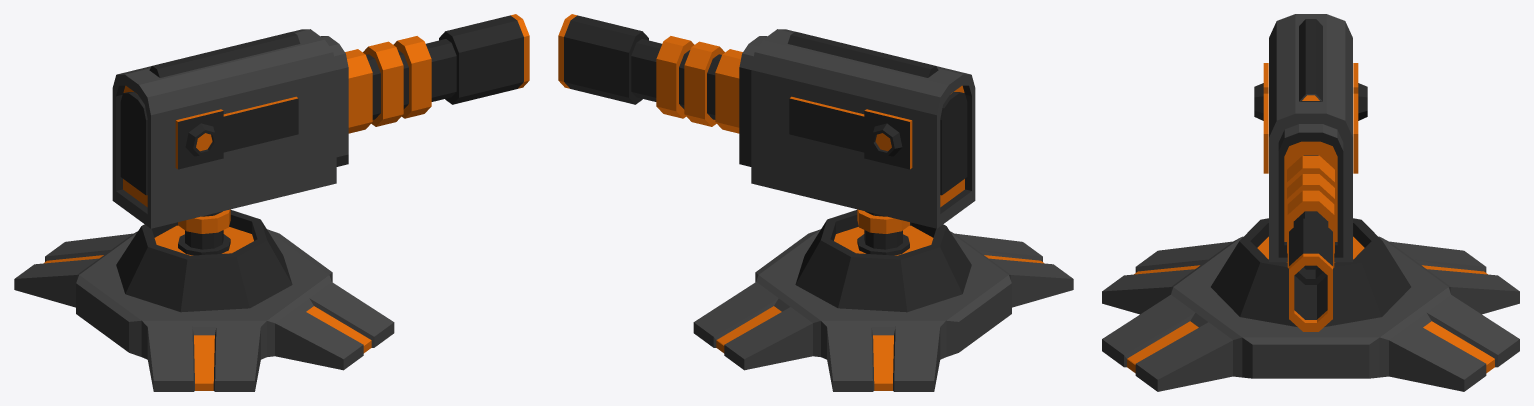
The model's file is turret1.1.fbx.
3 renders of one model, left to right at view 1: azimuth 30°, elevation 25°; view 2: azimuth 150°, elevation 25°; view 3: azimuth 270°, elevation 25°, orthographic. The views are drawn at different scales.
Parts seen in each view (by area): view 1: Cube.001, base, turret head, Cylinder.001, Cube.004, Cylinder.002, Cube, Cylinder.003; view 2: Cube.001, base, turret head, Cylinder.001, Cube.004, Cylinder.002, Cube, Cylinder.003; view 3: base, Cube.001, Cylinder.001, turret head, Cube, Cube.004, Cylinder.003.
Part boxes in pixels (x1,y1,x2,y2): Cube.001: (112, 29, 336, 228); base: (14, 229, 394, 391); turret head: (345, 14, 529, 133); Cylinder.001: (116, 210, 292, 312); Cube.004: (175, 96, 298, 169); Cylinder.002: (178, 209, 230, 255); Cube: (321, 36, 348, 166); Cylinder.003: (185, 123, 217, 156); Cube.001: (751, 29, 975, 228); base: (693, 229, 1073, 391); turret head: (558, 14, 742, 133); Cylinder.001: (795, 210, 971, 312); Cube.004: (789, 96, 912, 169); Cylinder.002: (857, 209, 909, 255); Cube: (739, 36, 766, 166); Cylinder.003: (870, 123, 902, 156); base: (1102, 236, 1519, 391); Cube.001: (1269, 14, 1352, 262); Cylinder.001: (1211, 218, 1410, 326); turret head: (1287, 155, 1334, 331); Cube: (1278, 124, 1343, 257); Cube.004: (1263, 63, 1358, 173); Cylinder.003: (1254, 83, 1367, 120).
Bounding box in the file's own units: 402 × 226 × 304.
